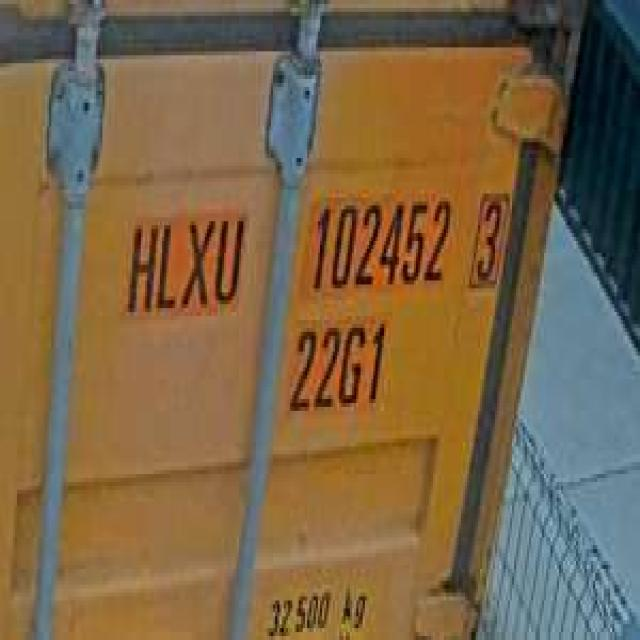dv: (467, 178, 512, 296)
owner: (120, 201, 250, 324)
serial: (305, 186, 452, 296)
size: (284, 312, 390, 419)
